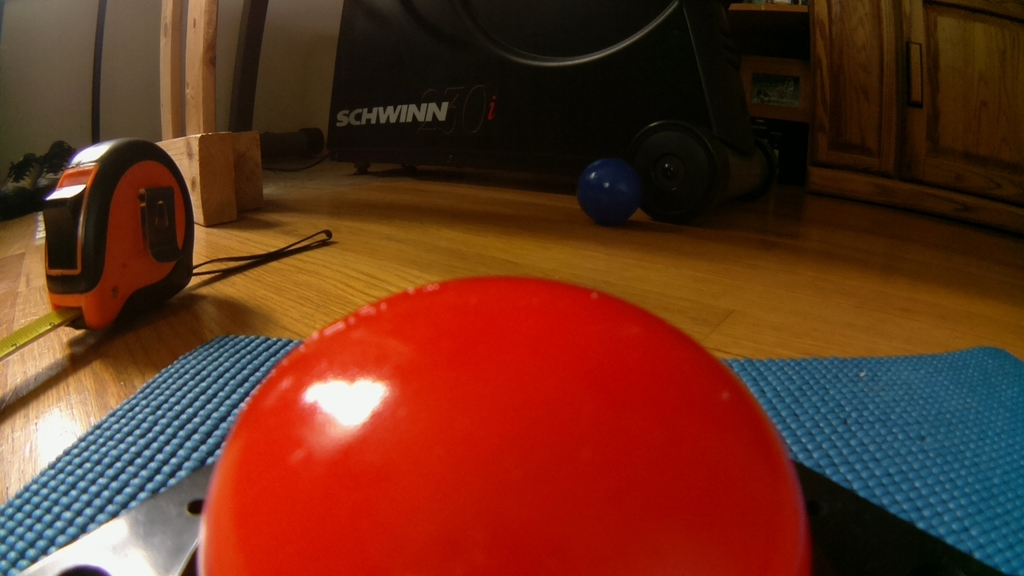ball: (194, 273, 814, 576)
